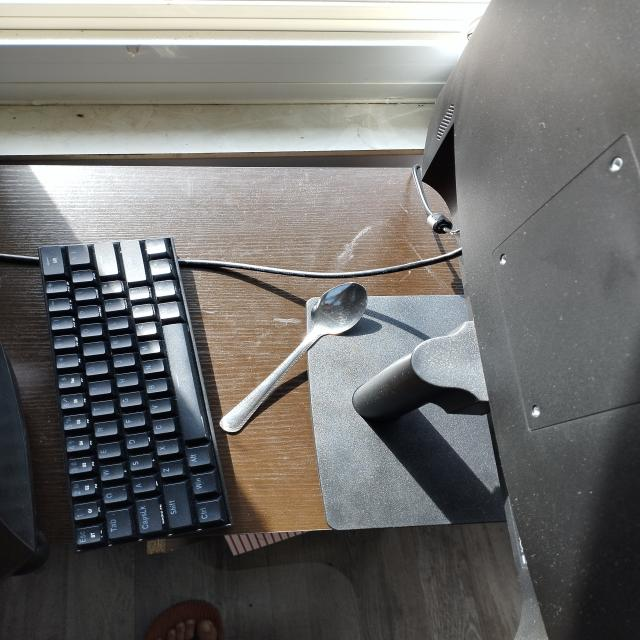Spoon: (205, 273, 384, 436)
